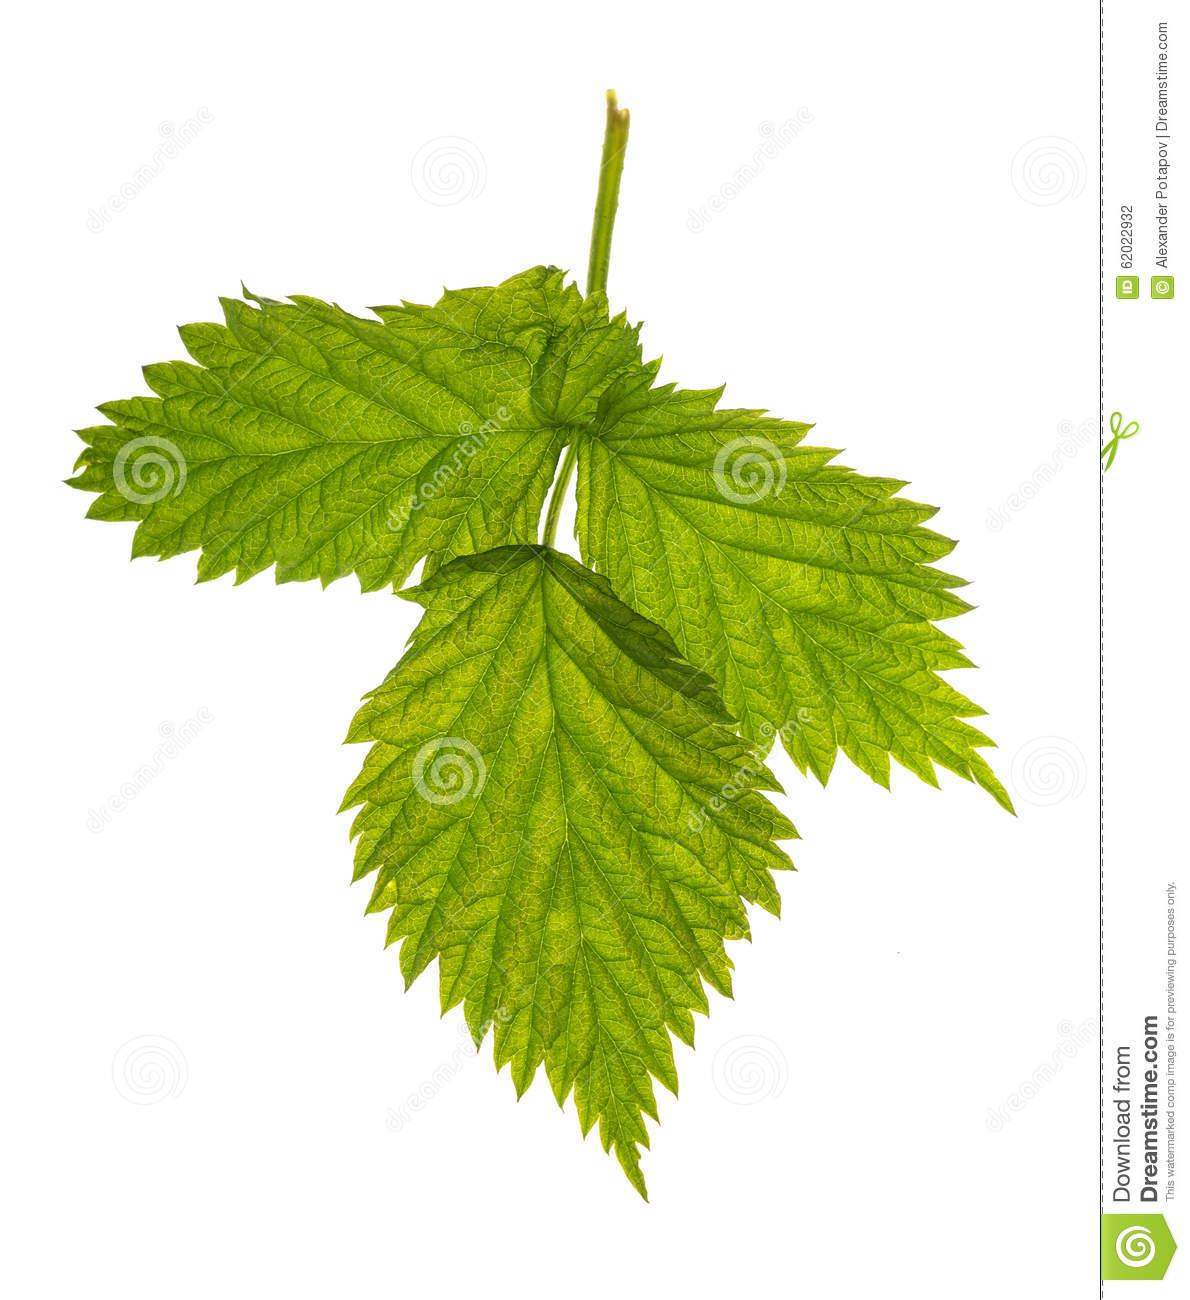Raspberry leaf: (346, 551, 794, 1209), (565, 336, 1020, 813), (55, 256, 640, 589)
